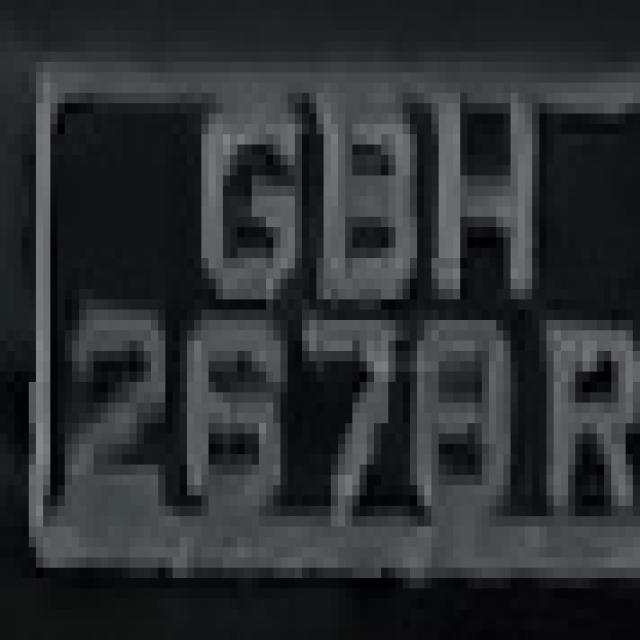2: (64, 289, 180, 547)
6: (165, 279, 302, 547)
7: (280, 278, 396, 536)
8: (403, 299, 525, 537)
B: (295, 72, 424, 341)
G: (187, 62, 316, 299)
H: (424, 62, 568, 320)
R: (518, 268, 633, 558)
